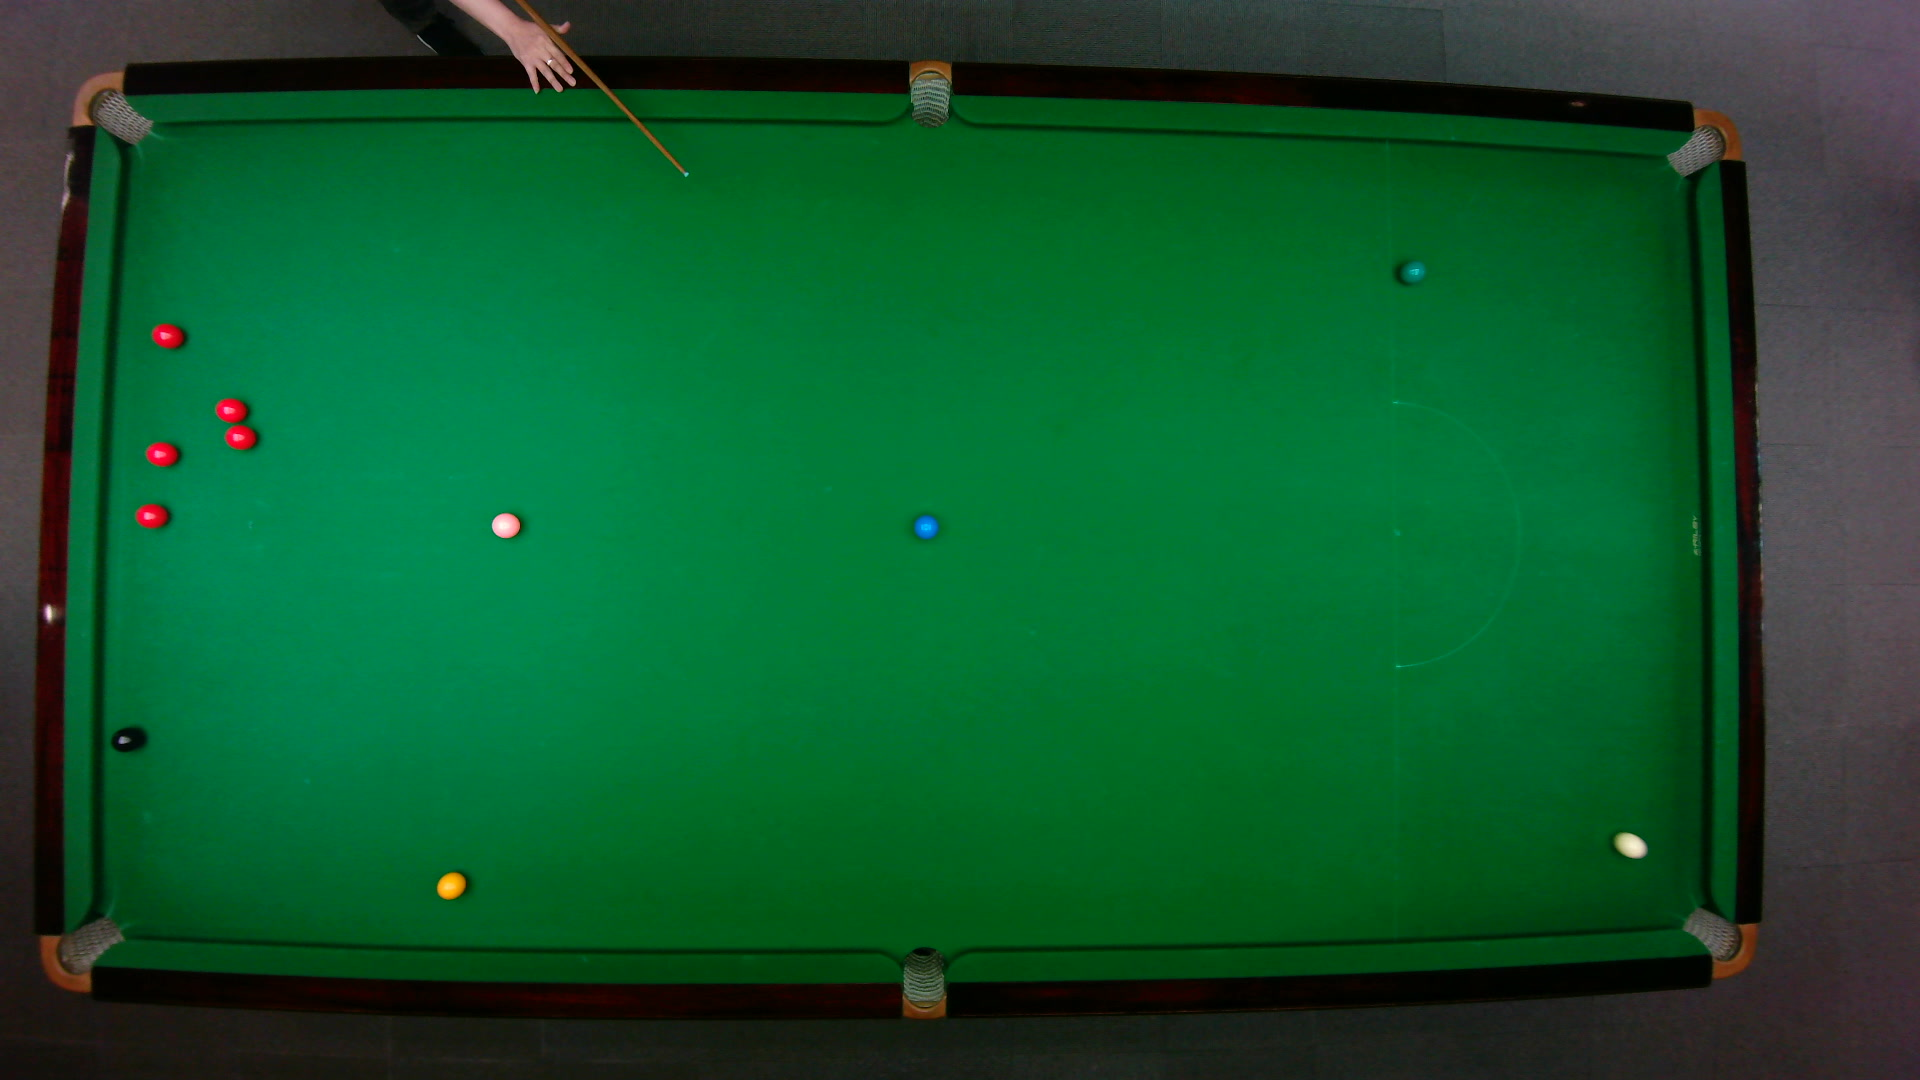bag: (38, 914, 127, 992), (69, 69, 152, 145), (1677, 905, 1756, 978), (1663, 107, 1742, 177), (901, 944, 944, 1021), (909, 57, 949, 128)
black: (109, 725, 140, 752)
blue: (911, 512, 938, 539)
cue: (514, 0, 691, 181)
green: (1396, 257, 1425, 284)
pink: (489, 509, 521, 539)
red: (149, 322, 185, 349), (214, 396, 247, 423), (223, 423, 257, 450), (145, 440, 178, 467), (133, 502, 167, 527)
white: (1610, 829, 1648, 858)
yellow: (435, 869, 465, 899)
zone: (1390, 400, 1520, 669)
